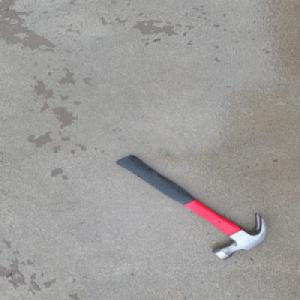Hammer: (114, 154, 268, 261)
